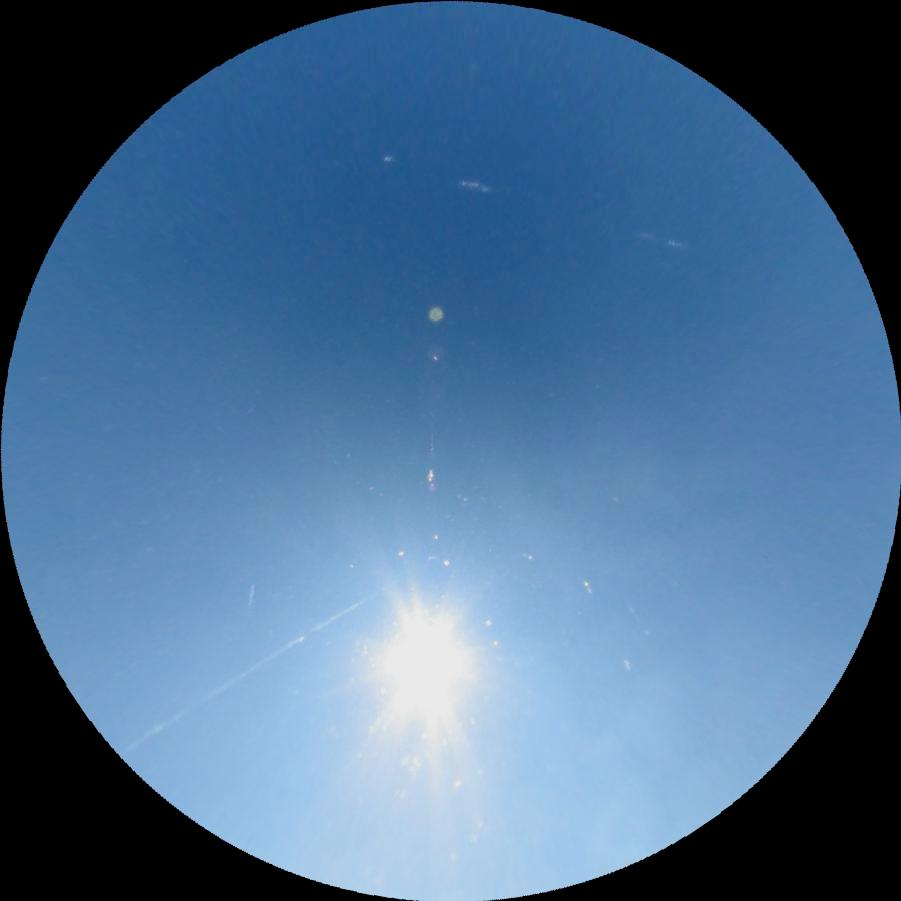contrail young: (246, 581, 255, 615)
parasite: (117, 590, 373, 755), (633, 226, 686, 250), (448, 176, 493, 192)
sun: (354, 594, 486, 744)
